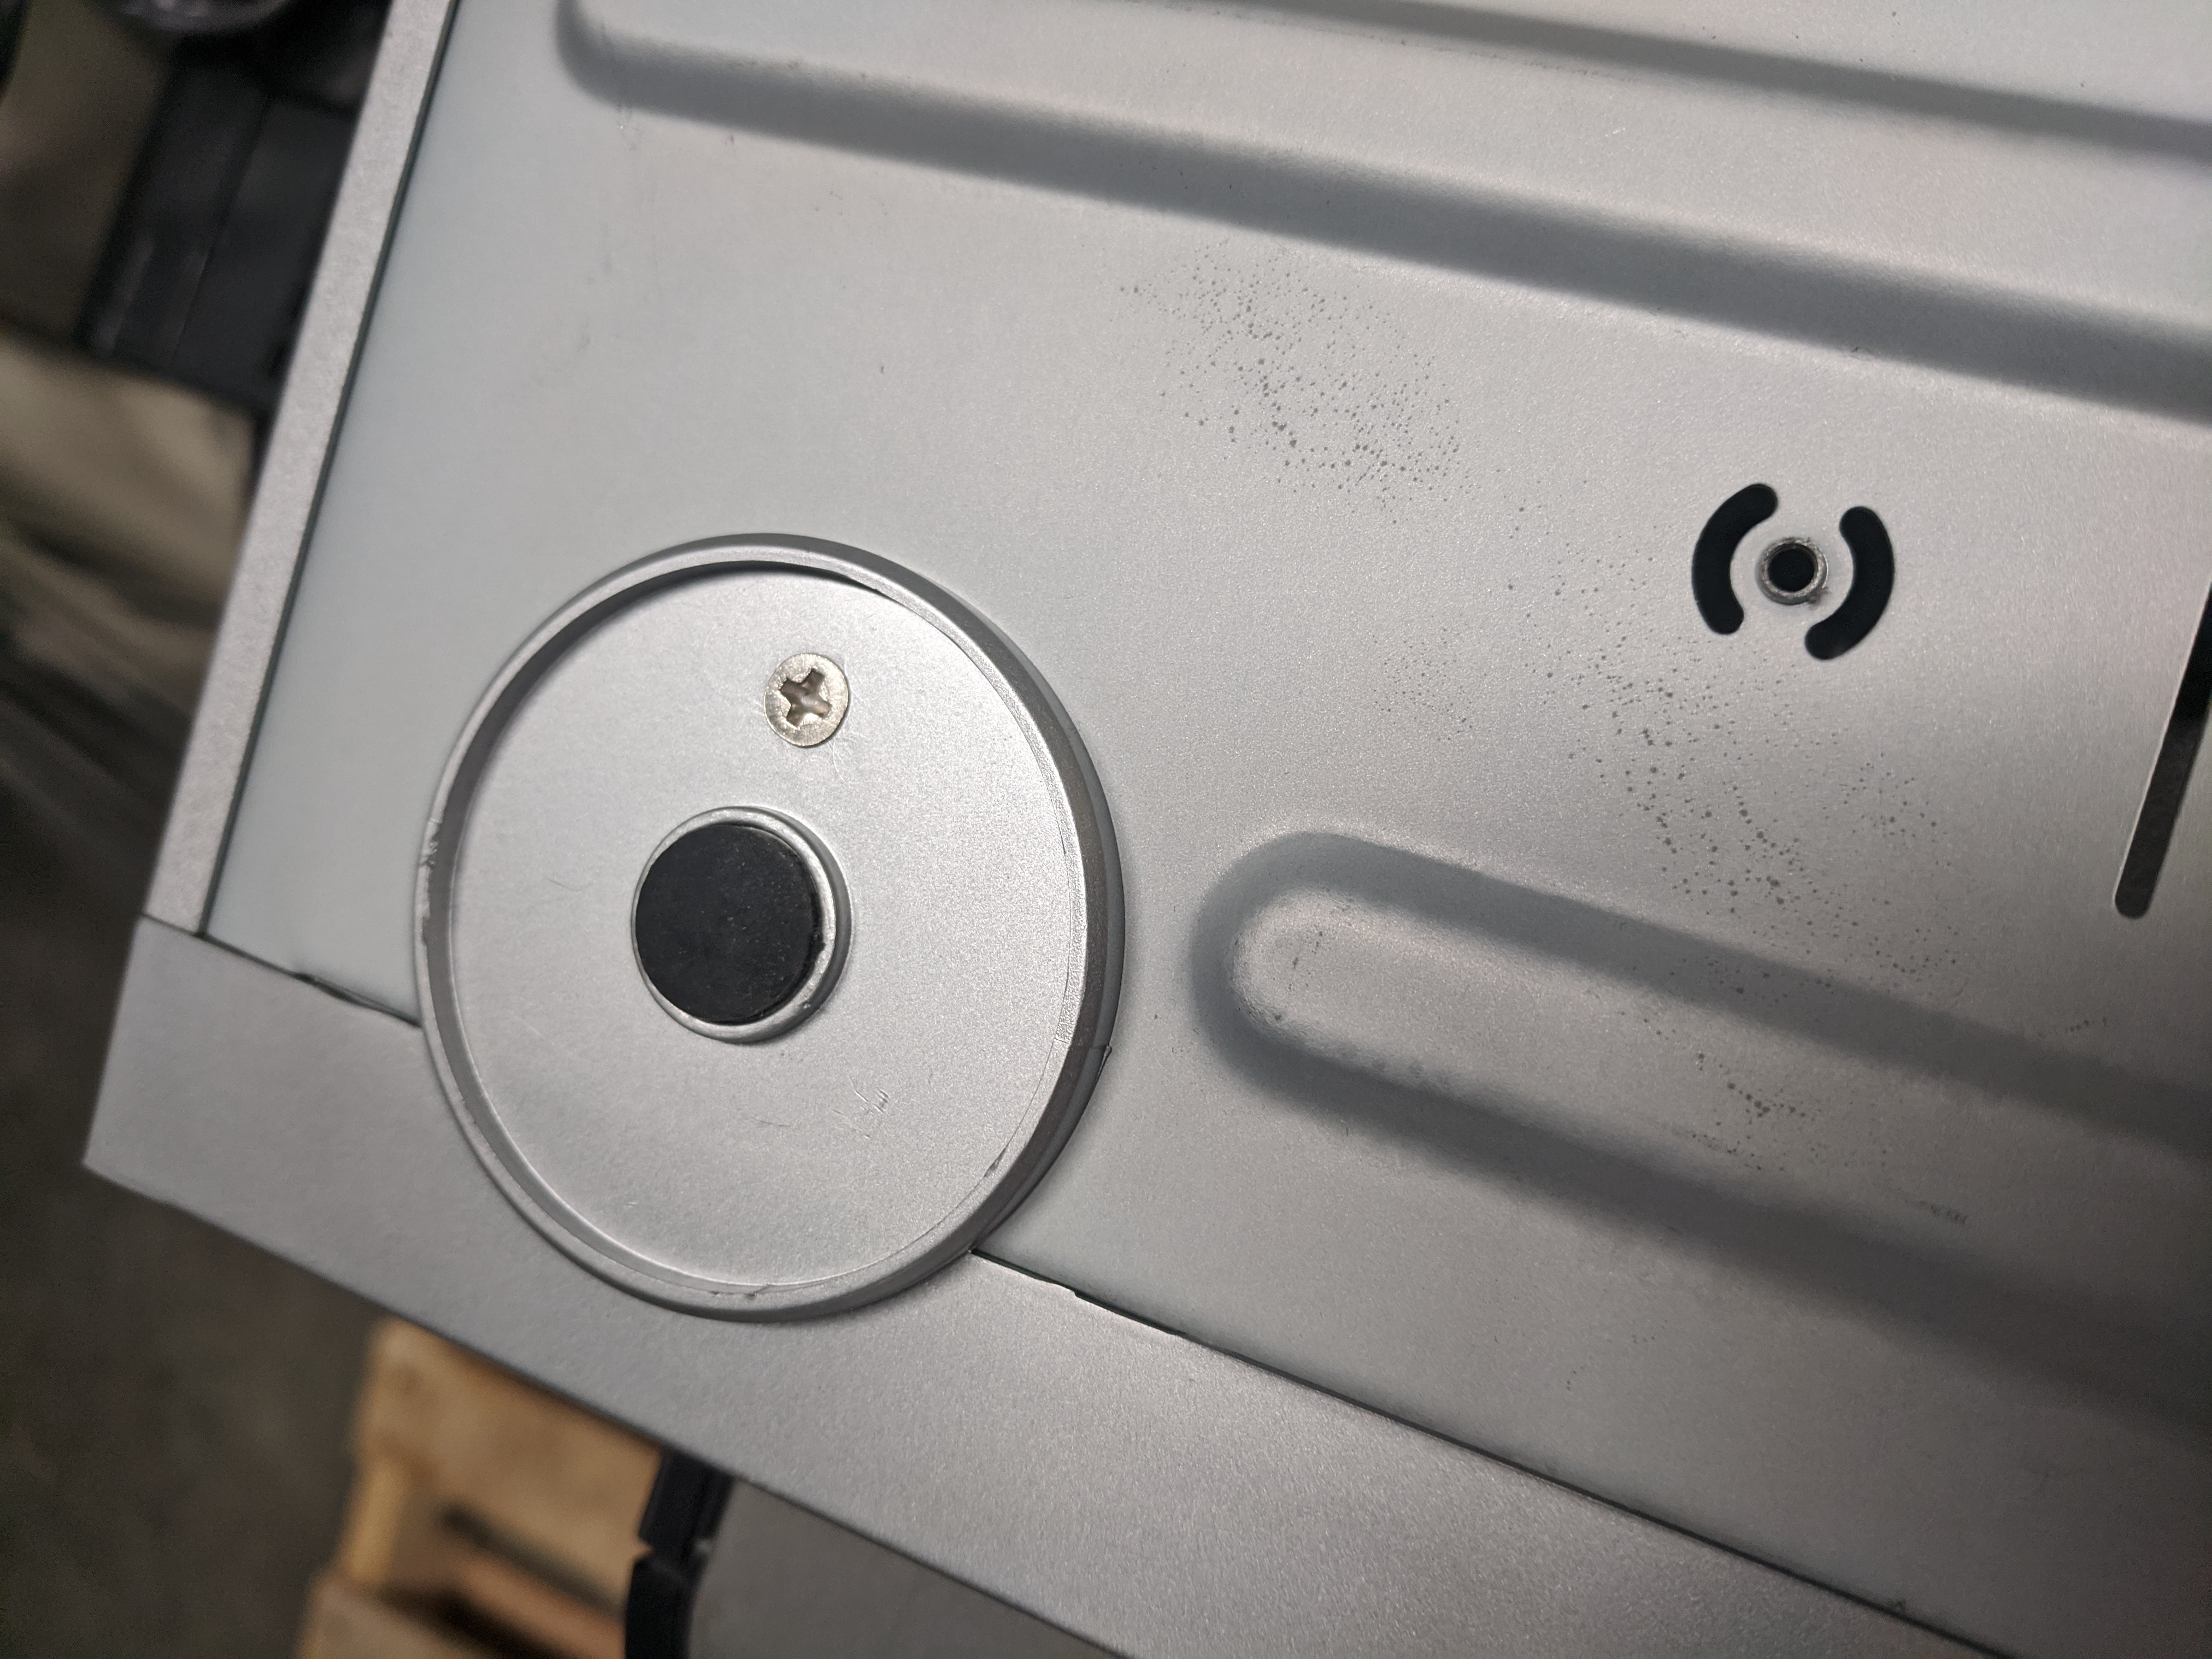cross_recessed_screw: (754, 643, 867, 751)
